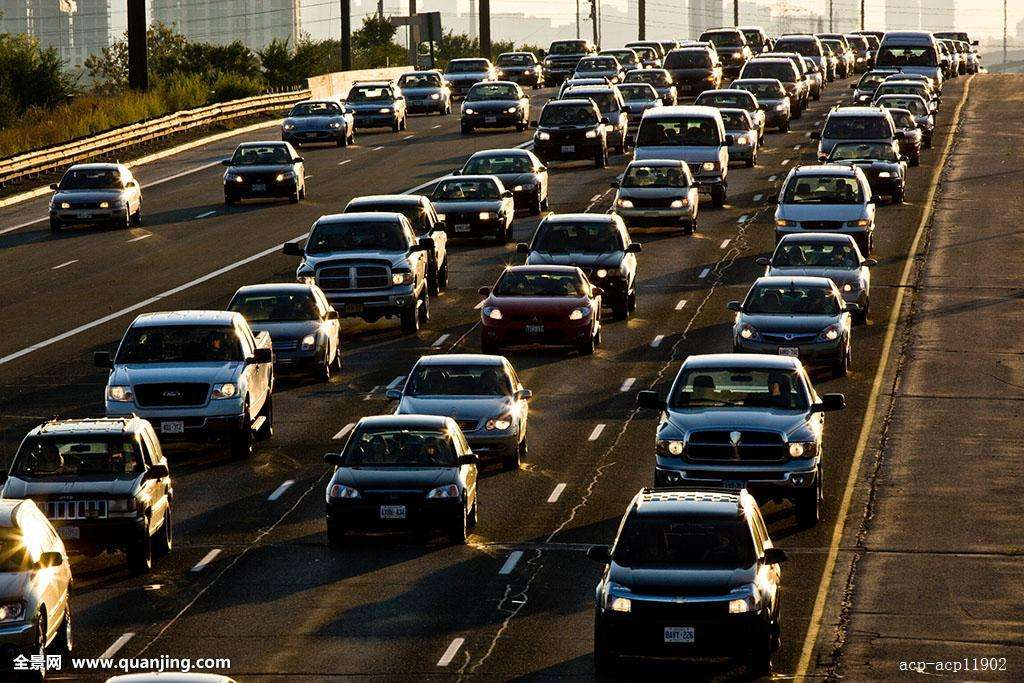car: (320, 412, 480, 548), (385, 352, 530, 467), (728, 275, 852, 370), (474, 264, 602, 355), (219, 141, 306, 204)
suv: (582, 490, 785, 668), (640, 353, 844, 525), (516, 209, 641, 317), (623, 103, 734, 203)
truck: (93, 307, 273, 457)
